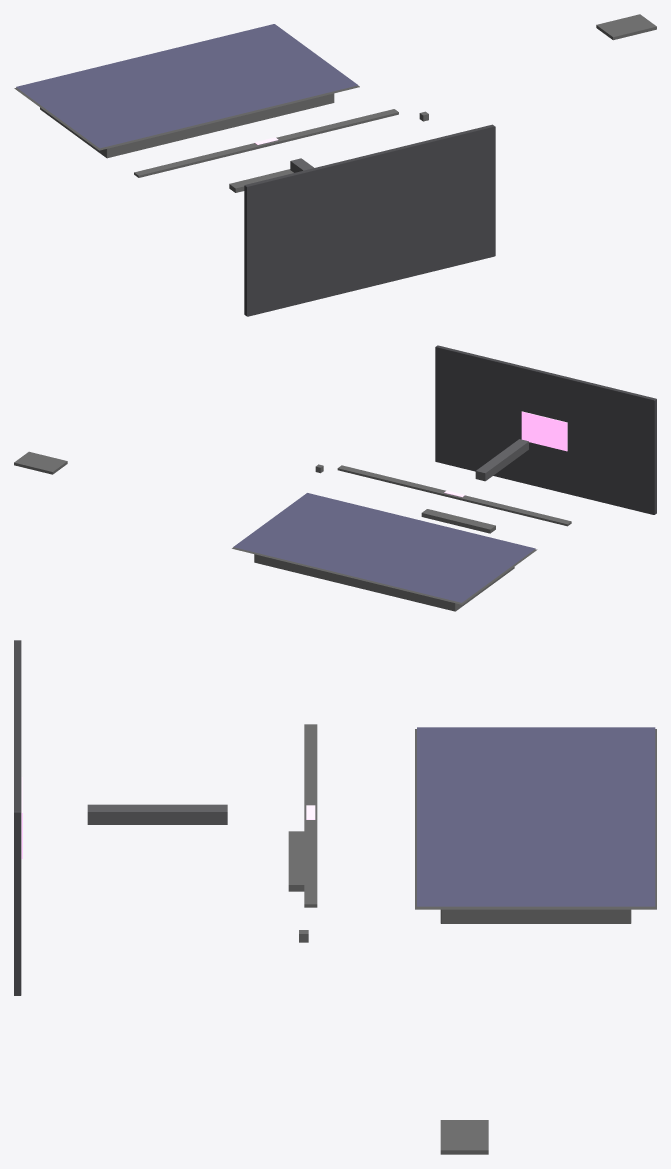
The model's file is ProVision32.glb.
The picture shows the model from 3 angles, top to bottom: view 1: azimuth 30°, elevation 25°; view 2: azimuth 150°, elevation 25°; view 3: azimuth 270°, elevation 25°; orthographic projection. The views are drawn at different scales.
Visible parts, largest first — view 1: ProVision32; view 2: ProVision32; view 3: ProVision32.
Boxes of the visible parts, x1=… form: ProVision32: x1=14, y1=14, x2=656, y2=316; ProVision32: x1=14, y1=345, x2=656, y2=611; ProVision32: x1=14, y1=640, x2=656, y2=1154.
Size of the model in its own units: 0.7749 by 0.1699 by 0.537.
